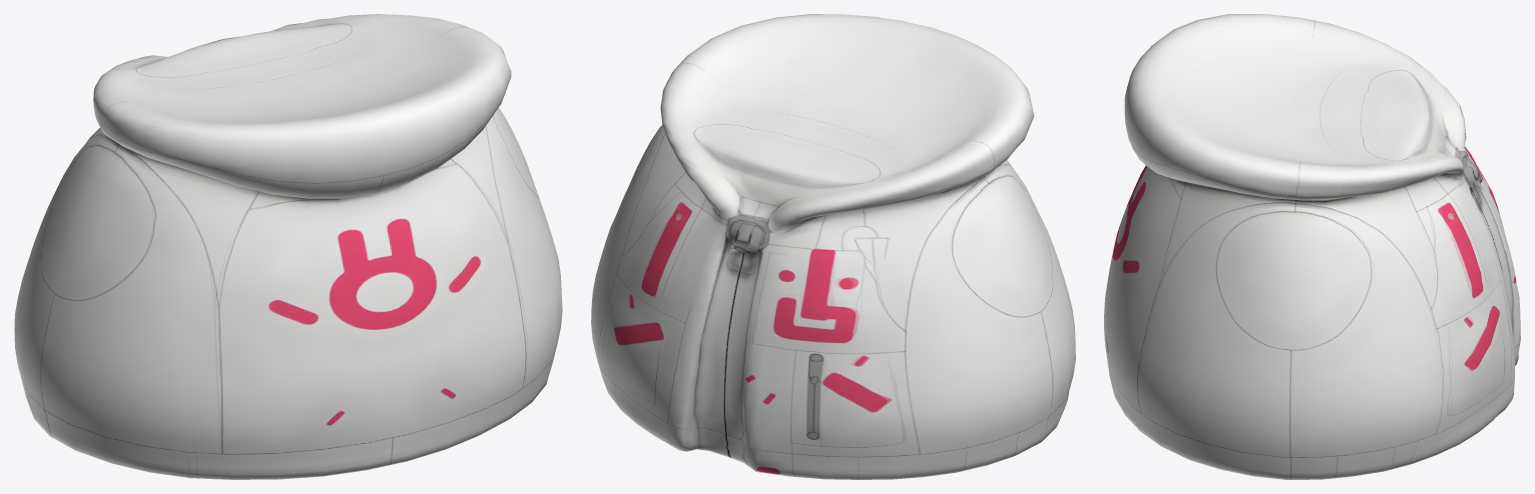
File: chr_player_capsule01_bunny01_body_top3d_v004.glb
The picture shows the model from 3 angles, left to right: view 1: azimuth 30°, elevation 25°; view 2: azimuth 150°, elevation 25°; view 3: azimuth 270°, elevation 25°; orthographic projection. The views are drawn at different scales.
Parts seen in each view (by area): view 1: EXPORT_chr_player_capsule01_bunny01_body_top3d_v004_00; view 2: EXPORT_chr_player_capsule01_bunny01_body_top3d_v004_00; view 3: EXPORT_chr_player_capsule01_bunny01_body_top3d_v004_00.
Part boxes in pixels (<box>): EXPORT_chr_player_capsule01_bunny01_body_top3d_v004_00: <box>14,14,562,479</box>; EXPORT_chr_player_capsule01_bunny01_body_top3d_v004_00: <box>591,14,1075,479</box>; EXPORT_chr_player_capsule01_bunny01_body_top3d_v004_00: <box>1104,14,1520,479</box>.
Bounding box in the file's own units: 0.8025 × 0.5331 × 0.66.
Materials: 1 (1 with a texture image).
